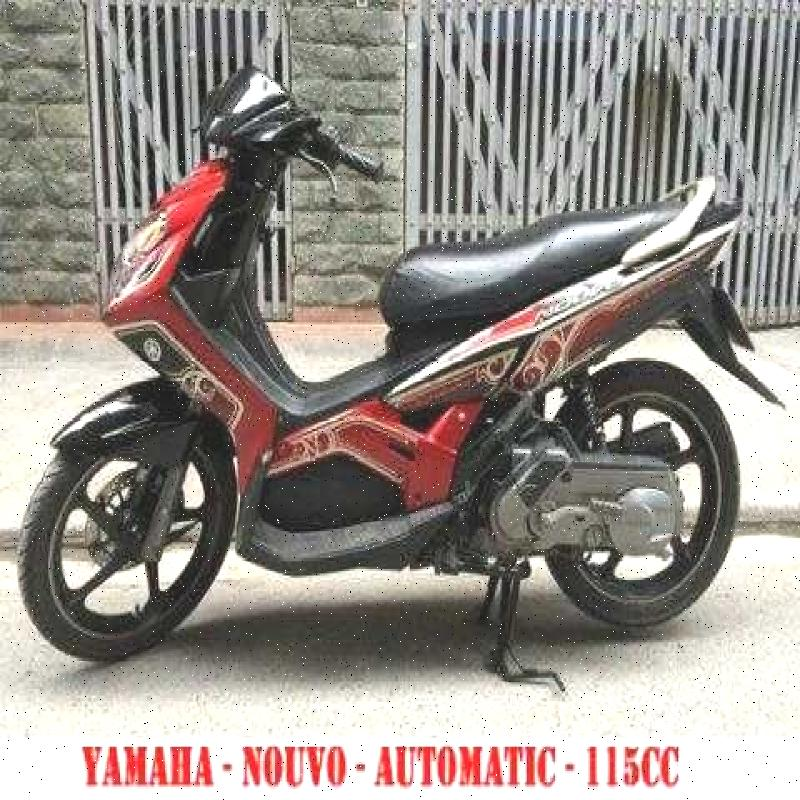bike: (37, 23, 762, 685)
